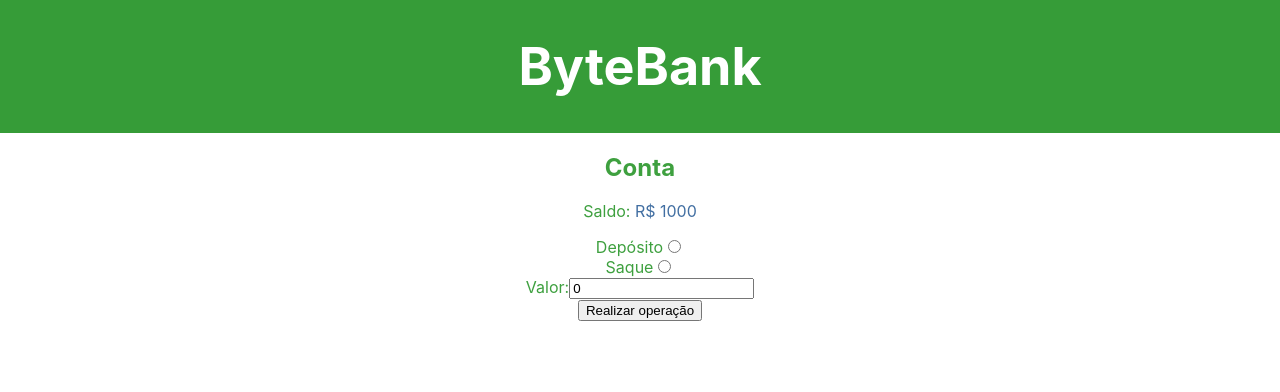
Test: Quando eu realizo uma transação › que é um saque, a transação é realizada
This screenshot has width=1280, height=392.
Expected: the text with test id "saldo-conta" reads "R$ 1000", [635,202,697,222]
Click the radio button labelled "Saque".
click(665, 267)  # box [658,260,671,274]
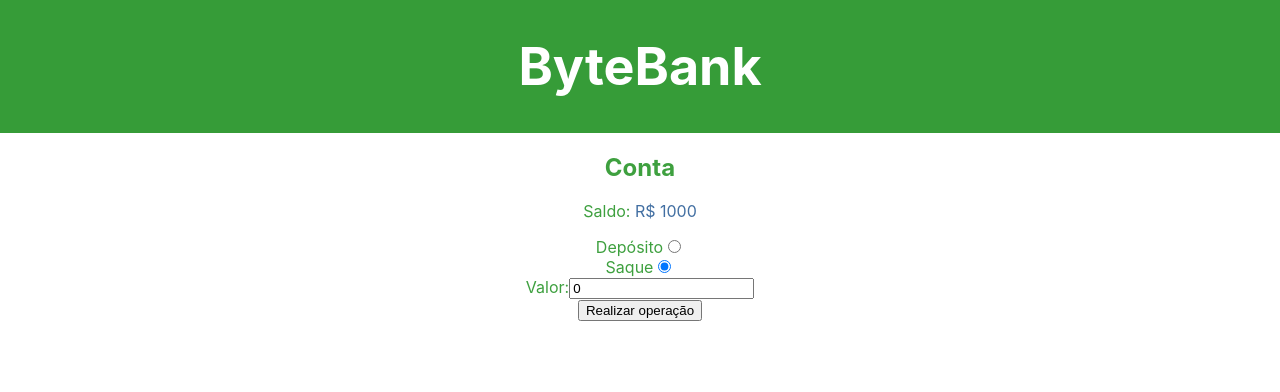
Replace the text in the number field with test id "valor" with "100" at (662, 289), box [569,278,754,300]
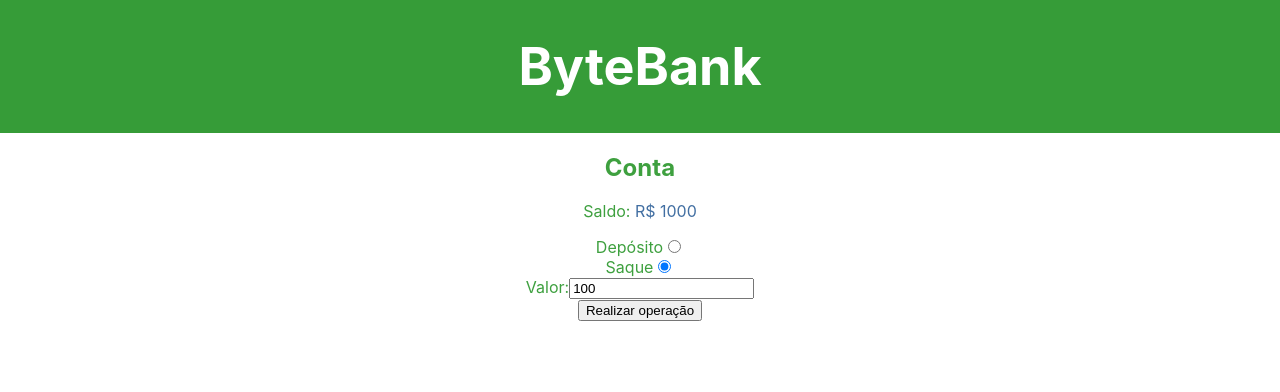
Click the button "Realizar operação".
click(640, 311)  # box [578,300,702,322]
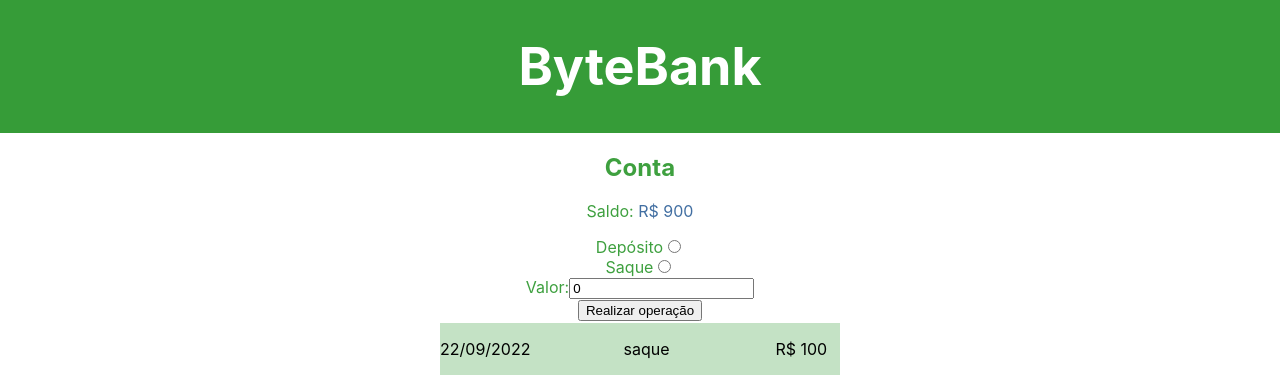
Expected: the text with test id "saldo-conta" reads "R$ 900", [638,202,693,222]
